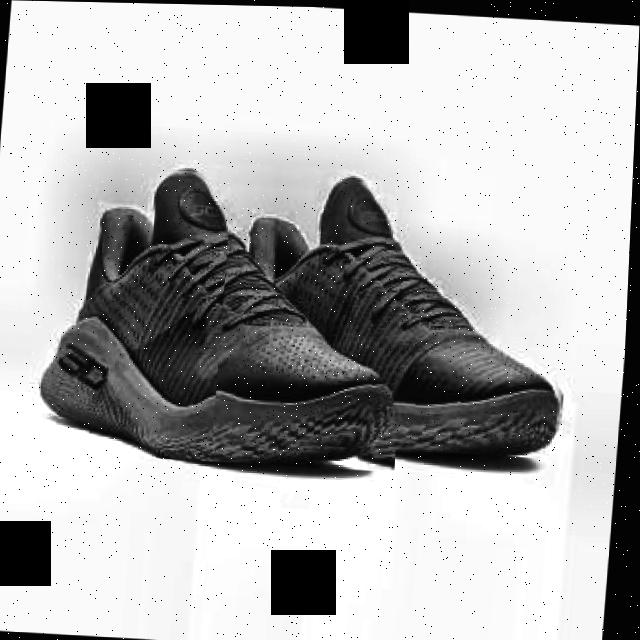shoe: (40, 159, 419, 469), (215, 170, 582, 456)
